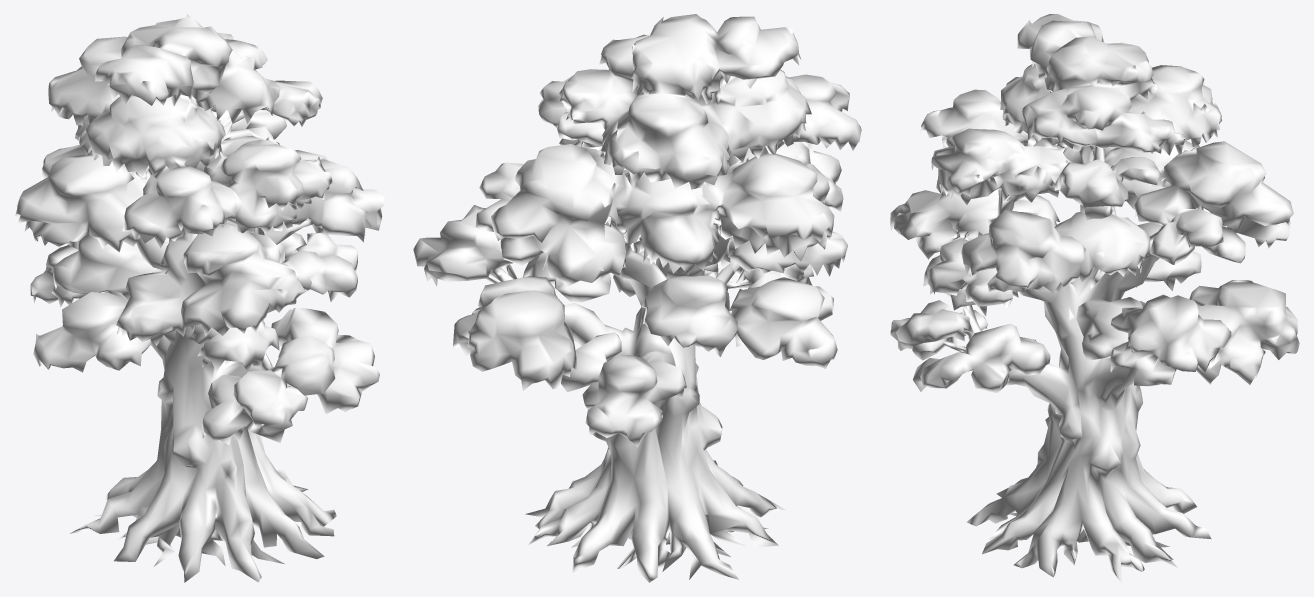
The model's file is tree_oak.glb.
3 views of the same model, side by side, from view 1: azimuth 30°, elevation 25°; view 2: azimuth 150°, elevation 25°; view 3: azimuth 270°, elevation 25° (orthographic). The views are drawn at different scales.
Parts seen in each view (by area): view 1: lod0; view 2: lod0; view 3: lod0.
Boxes of the visible parts, <box> form: lod0: <box>14,14,384,582</box>; lod0: <box>413,14,861,582</box>; lod0: <box>890,14,1299,582</box>.
Size of what is drawn, in the model's own units: 6.95 by 8.99 by 7.02.
Materials: 1 (1 with a texture image).
